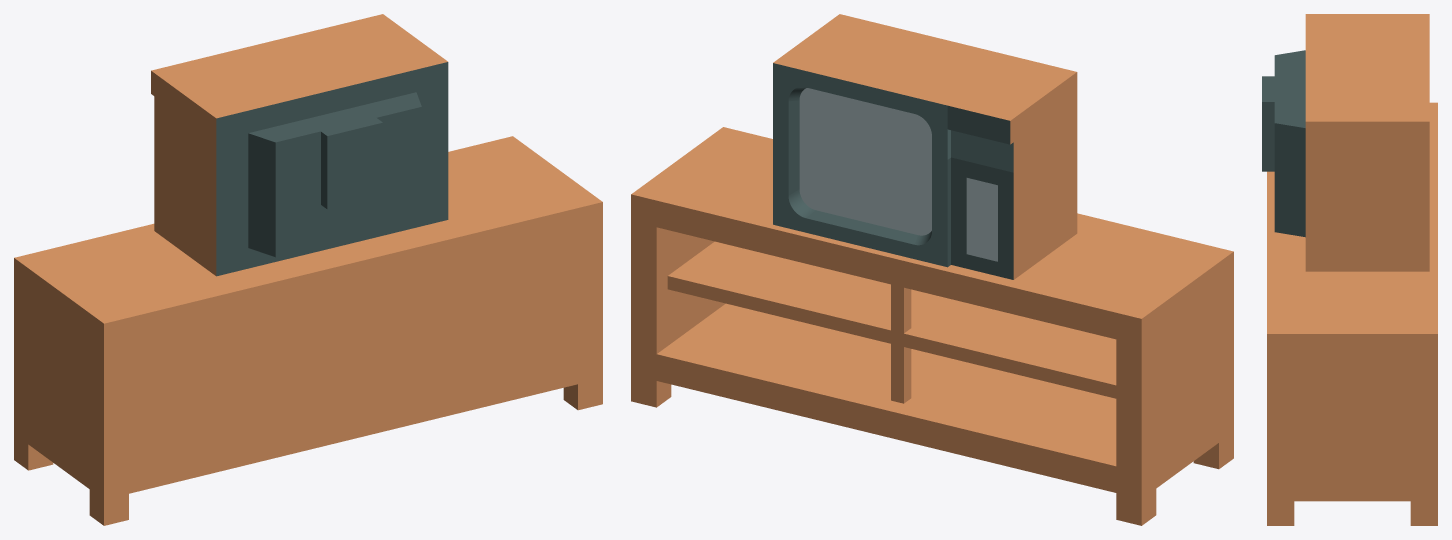
Rendered from televisionVintage.glb.
3 renders of one model, left to right at view 1: azimuth 30°, elevation 25°; view 2: azimuth 150°, elevation 25°; view 3: azimuth 270°, elevation 25°, orthographic. The views are drawn at different scales.
Parts seen in each view (by area): view 1: televisionVintage; view 2: televisionVintage; view 3: televisionVintage.
Boxes of the visible parts, box(x1,y1,x2,y2) form: televisionVintage: box(14, 14, 602, 525); televisionVintage: box(631, 14, 1233, 525); televisionVintage: box(1262, 14, 1437, 525).
Size of the model in its own units: 1.88 by 1.3 by 0.603.
